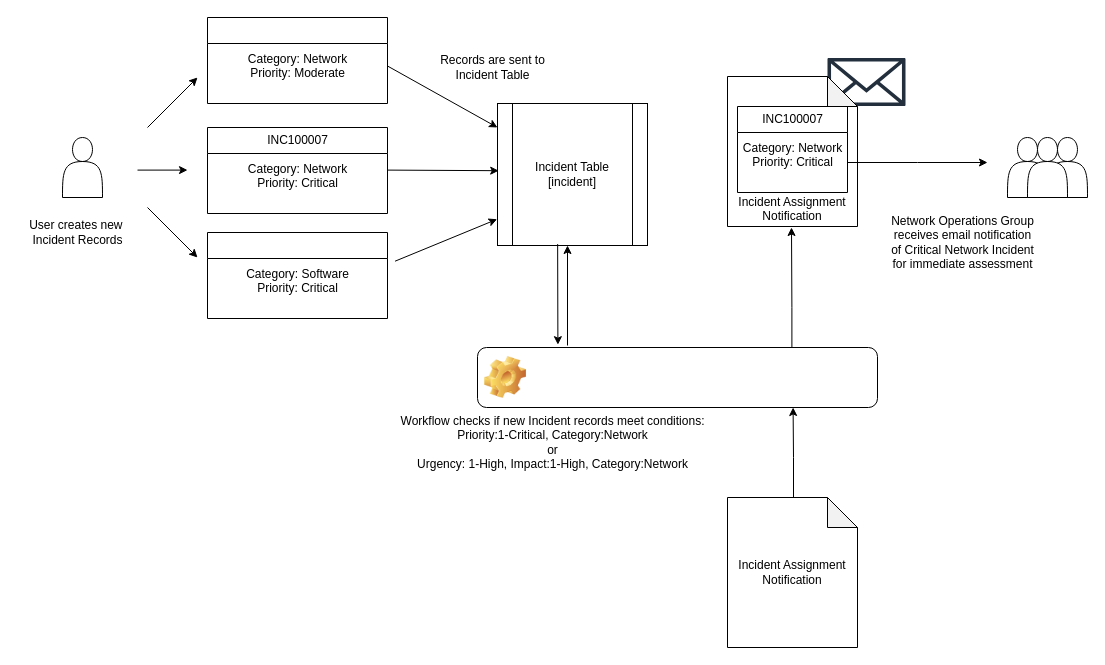
The diagram is 1105 pixels wide and 665 high, and some of its shapes have lost their labels. Each missing label, with the box of its shape:
Critical Incident Notification To Network Operations Workflow: (476, 346, 878, 408)
INC100006: (206, 16, 388, 104)
INC100008: (206, 232, 388, 318)
